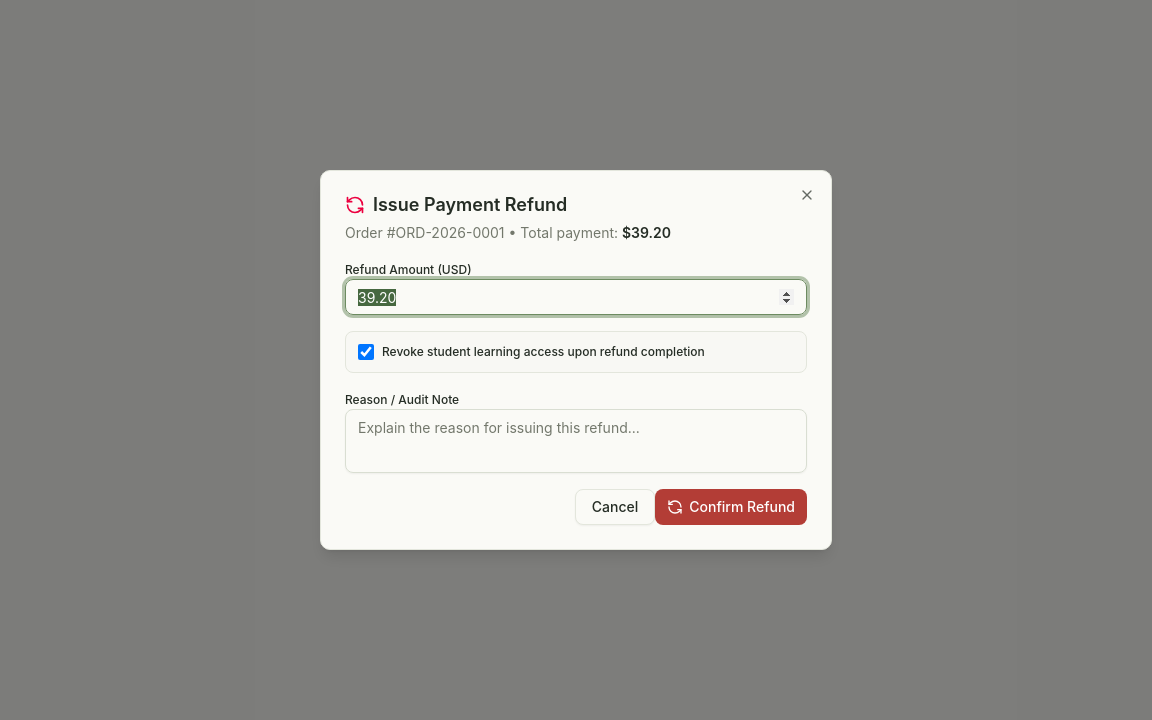
Scenario: RefundDialog › prevents refund amounts greater than original payment
The width and height of the screenshot is (1152, 720).
Replace the text in the number field labelled "Refund Amount (USD)" with "100.00" at point(576, 297), box [345,279,807,315]
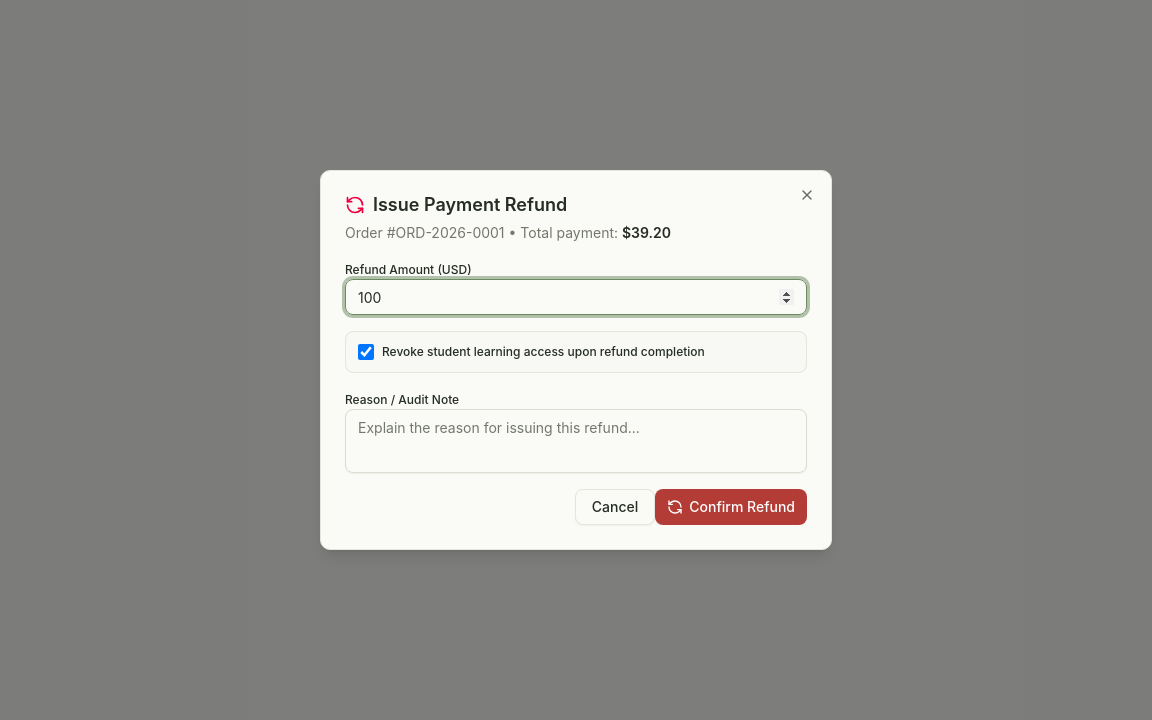
Type "Attempted excessive refund" into the text box with placeholder "Explain the reason for issuing this refund..." at point(576, 441), box [345,409,807,473]
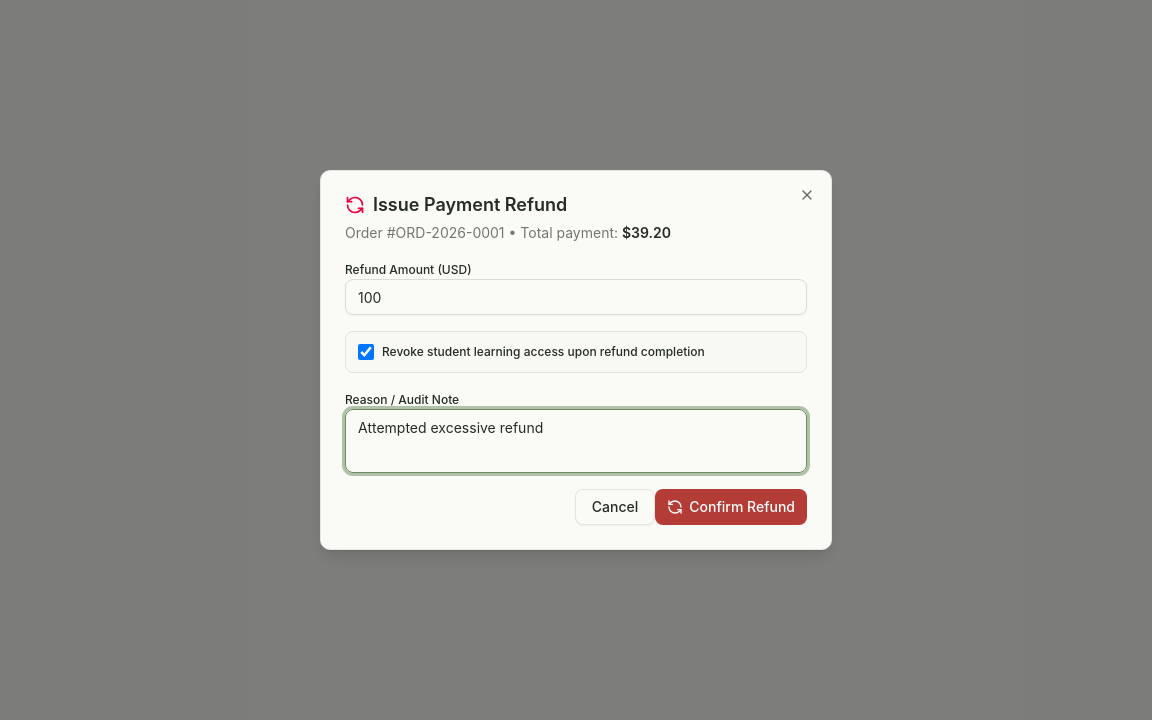
Click the button "Confirm Refund" at point(731, 507), box [655,489,807,525]
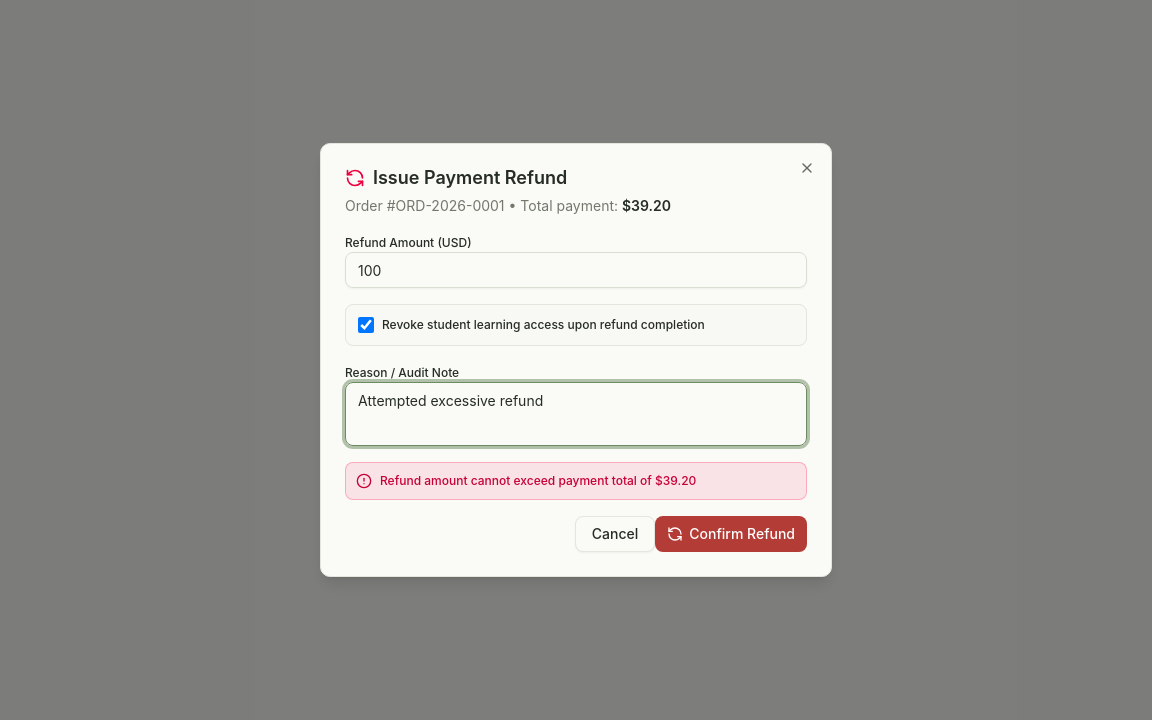
Expected: the text "Refund amount cannot exceed payment total of $39.20" is shown, [380,473,696,489]
